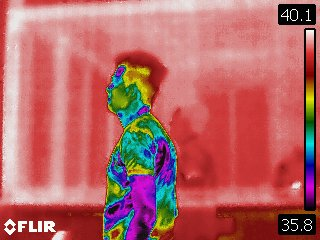human: (99, 48, 181, 240)
